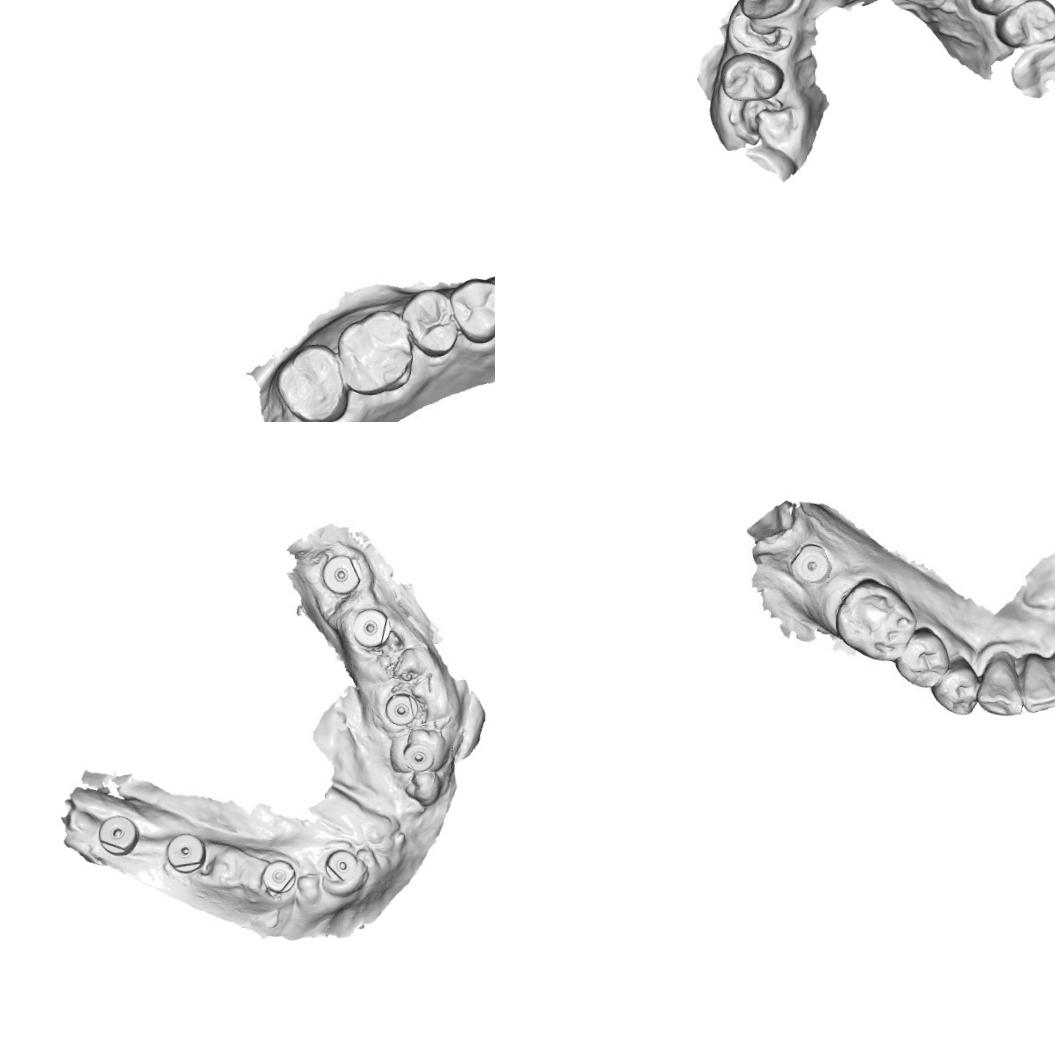canine: (970, 648, 1029, 724), (734, 0, 798, 22)
implant: (784, 538, 837, 587), (318, 552, 366, 597), (350, 605, 395, 652), (96, 812, 140, 858), (164, 830, 208, 876), (256, 855, 299, 896), (321, 846, 361, 886), (381, 690, 421, 728), (399, 740, 436, 775)
incisor: (1020, 649, 1055, 717)
molar: (828, 574, 916, 662), (333, 306, 416, 397), (272, 340, 351, 422)
premolar: (400, 284, 462, 359), (890, 623, 948, 691), (716, 48, 786, 102), (446, 274, 495, 346), (928, 654, 982, 718), (991, 0, 1055, 49), (966, 0, 1036, 17)
